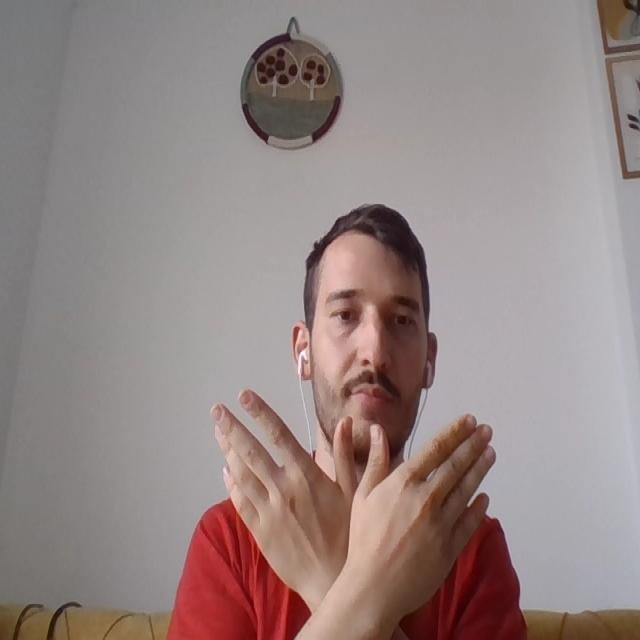thanks: (237, 388, 498, 606)
